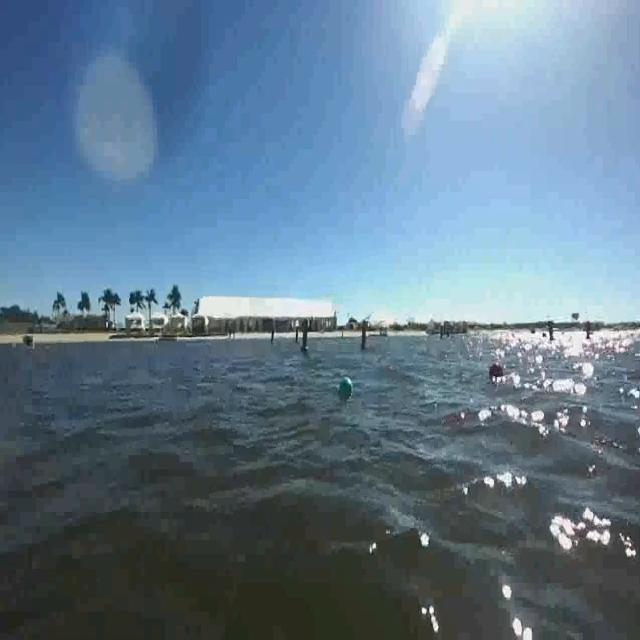green-buoy: (341, 376, 354, 393)
green-column-buoy: (302, 322, 311, 353)
red-buoy: (490, 357, 506, 380)
red-column-buoy: (360, 319, 370, 352)
